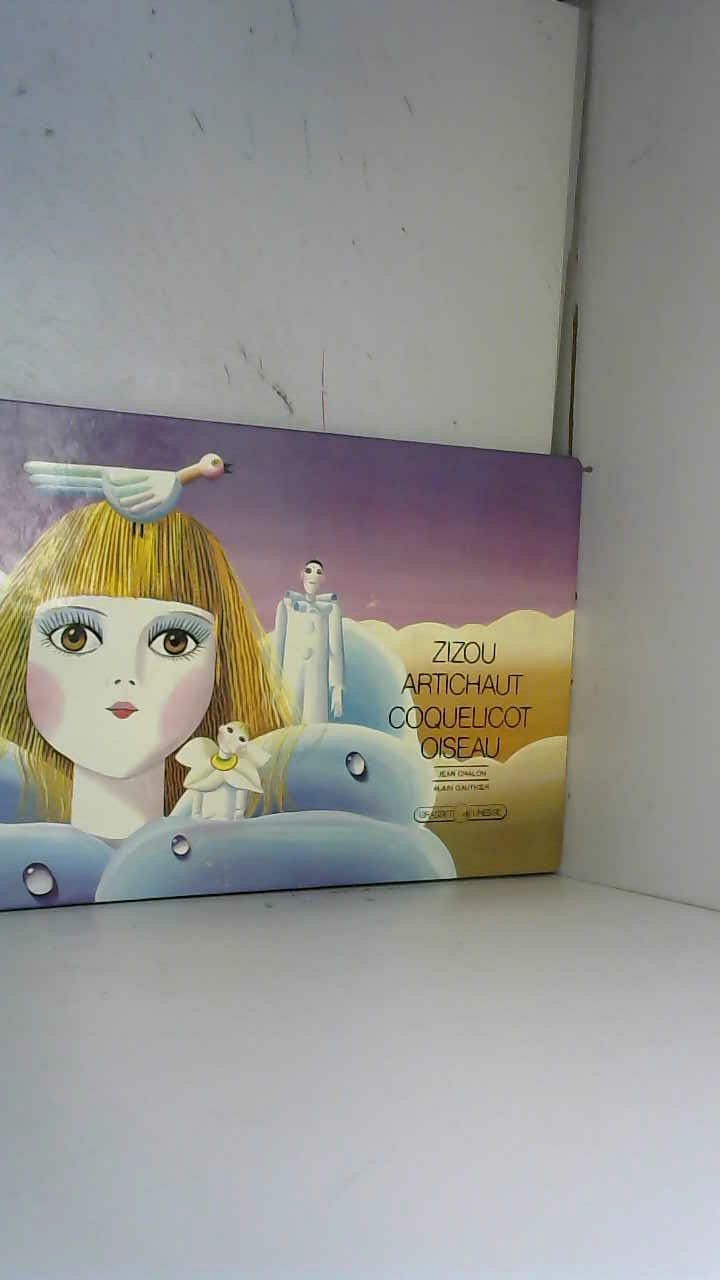book: (0, 386, 602, 933)
